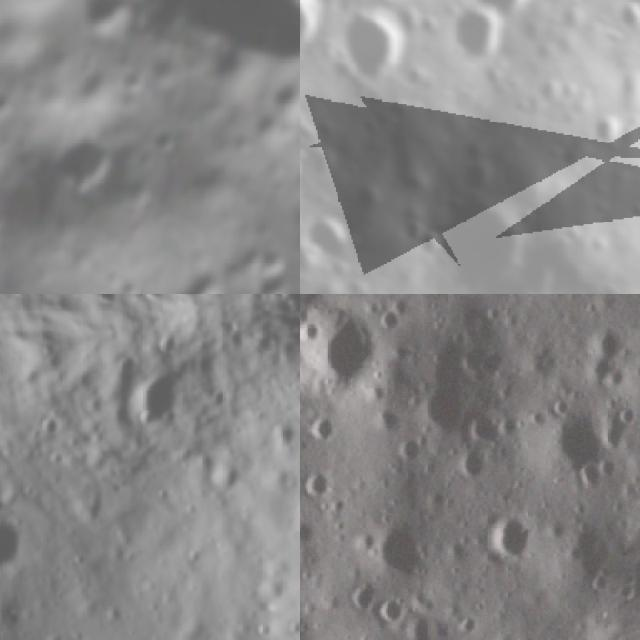crater: (35, 112, 137, 217), (432, 192, 531, 294), (300, 294, 397, 393), (113, 354, 198, 444), (333, 0, 416, 89), (360, 511, 441, 591), (45, 0, 146, 63), (537, 400, 613, 480), (436, 0, 512, 77), (575, 311, 640, 393), (480, 504, 540, 567), (241, 237, 298, 294), (193, 450, 249, 508), (0, 502, 33, 587), (108, 167, 160, 220), (456, 0, 552, 27), (455, 398, 506, 448), (340, 564, 386, 618), (141, 120, 190, 170), (306, 210, 354, 260), (370, 588, 419, 632), (300, 460, 337, 504), (457, 441, 493, 484), (304, 406, 342, 446), (265, 416, 300, 459), (413, 227, 447, 269), (594, 109, 626, 147), (612, 0, 640, 39), (538, 74, 566, 113), (394, 212, 424, 246), (65, 546, 94, 578), (150, 484, 175, 509), (300, 431, 312, 477), (185, 544, 206, 570), (39, 414, 63, 436), (253, 616, 272, 640), (61, 630, 101, 640), (284, 618, 300, 640)
